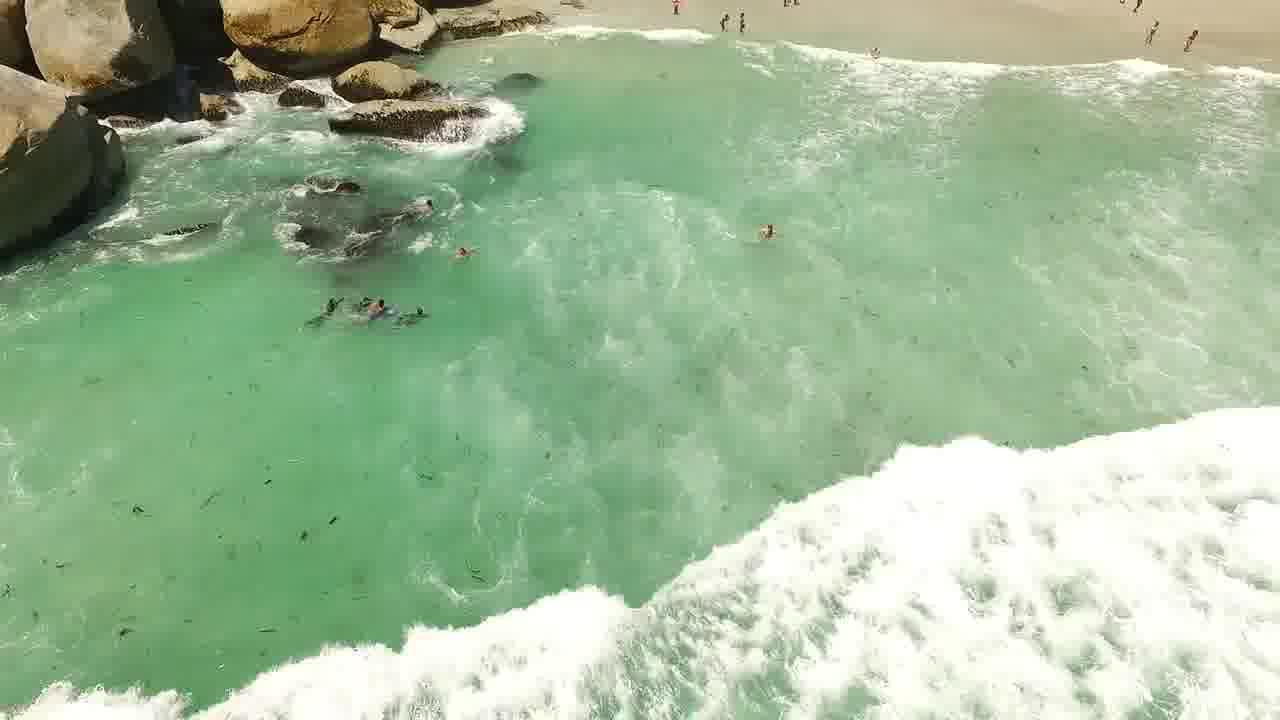swimmer: (420, 236, 488, 274), (754, 211, 797, 244), (309, 289, 338, 329), (1185, 21, 1208, 59), (729, 4, 755, 33), (414, 189, 442, 215), (1138, 19, 1160, 49), (704, 9, 728, 29)
